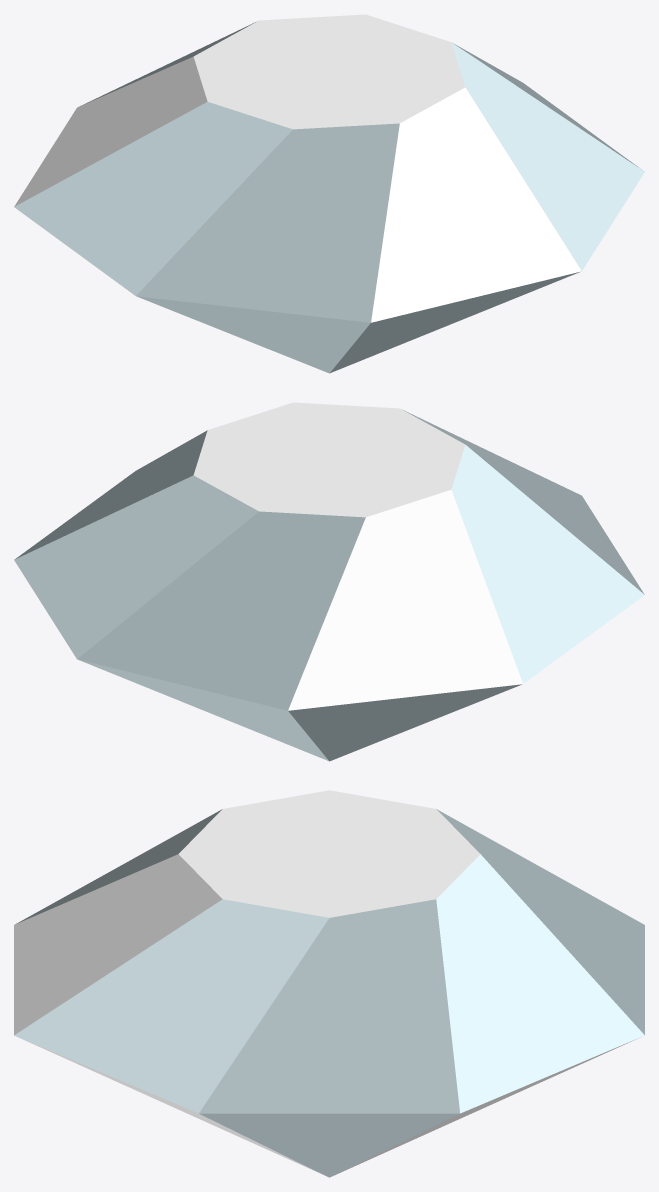
File: Diamond.glb
3 renders of one model, top to bottom at view 1: azimuth 30°, elevation 25°; view 2: azimuth 150°, elevation 25°; view 3: azimuth 270°, elevation 25°, orthographic. The views are drawn at different scales.
Visible parts, largest first — view 1: Diamond_gem; view 2: Diamond_gem; view 3: Diamond_gem.
Boxes of the visible parts, bbox=[...] form: Diamond_gem: bbox=[14, 14, 644, 373]; Diamond_gem: bbox=[14, 402, 644, 761]; Diamond_gem: bbox=[14, 790, 644, 1177].
Bounding box in the file's own units: 0.9801 × 0.5546 × 0.9801.
